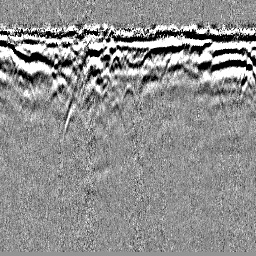cavity: (120, 81, 136, 104)
